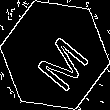M_NW: (23, 21, 87, 89)
